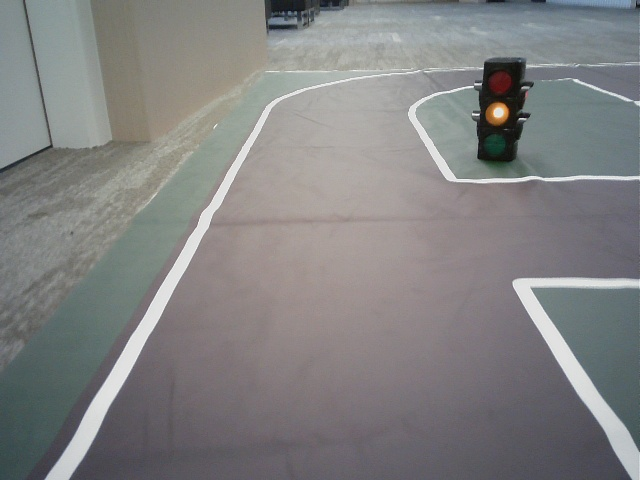yellow: (481, 66, 512, 153)
